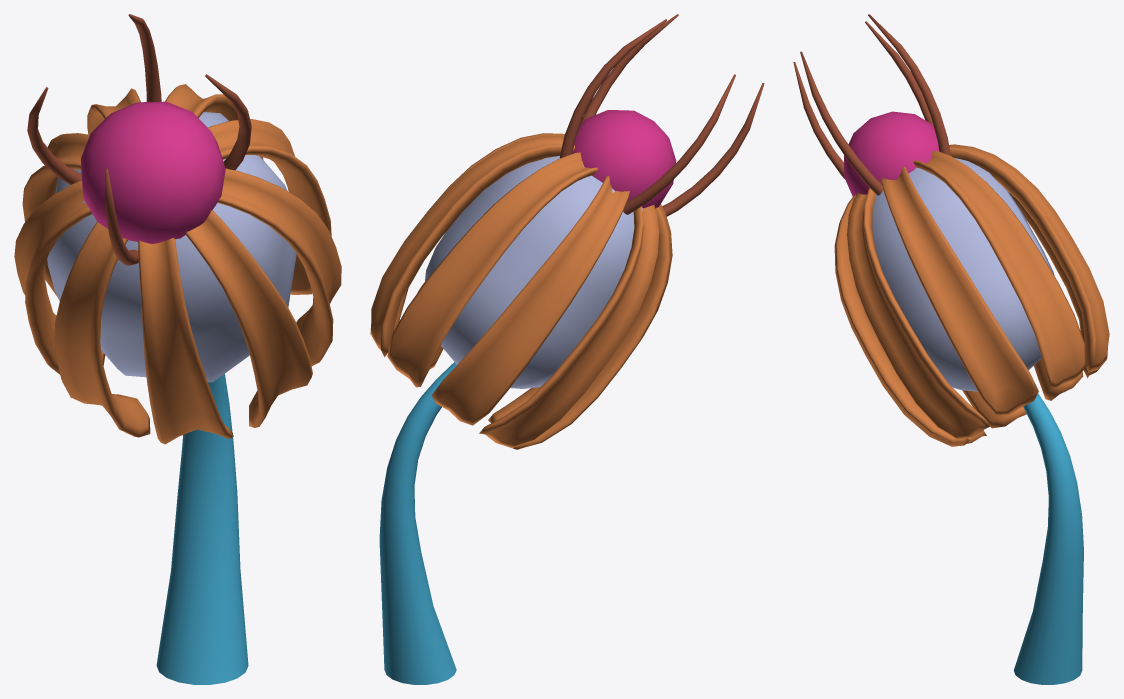
File: Plant2.fbx
3 renders of one model, left to right at view 1: azimuth 30°, elevation 25°; view 2: azimuth 150°, elevation 25°; view 3: azimuth 270°, elevation 25°, orthographic. The views are drawn at different scales.
Parts seen in each view (by area): view 1: Cylinder002; view 2: Cylinder002; view 3: Cylinder002.
Part boxes in pixels (bbox=[...]): Cylinder002: bbox=[14, 14, 341, 684]; Cylinder002: bbox=[370, 14, 764, 684]; Cylinder002: bbox=[793, 14, 1109, 684].
Size of the model in its own units: 95.56 by 200 by 97.72.
